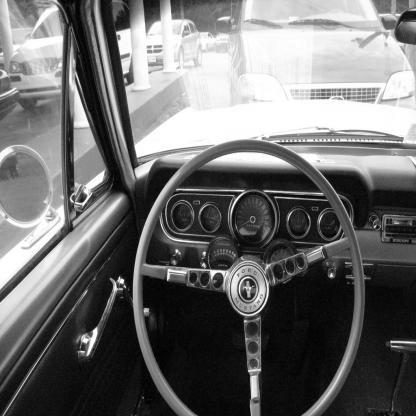car: (228, 6, 415, 106), (147, 16, 207, 75)
